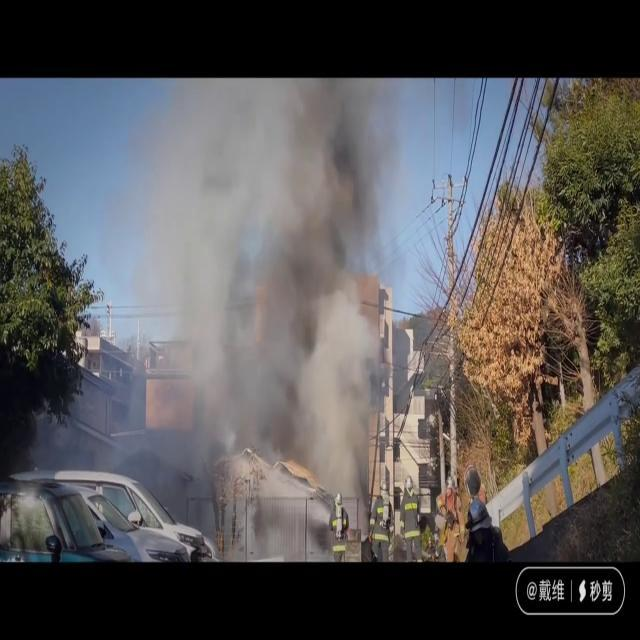Smoke: (98, 79, 404, 528)
